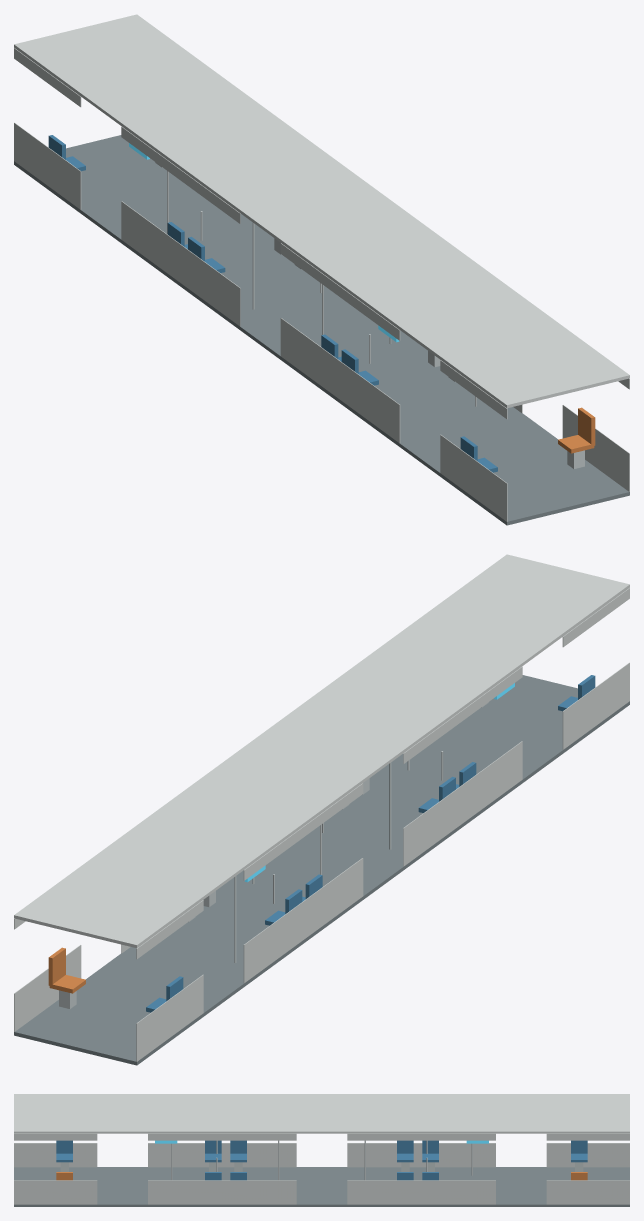
The model's file is expo-metro-shared-interior.lod0.glb.
The picture shows the model from 3 angles, top to bottom: view 1: azimuth 30°, elevation 25°; view 2: azimuth 150°, elevation 25°; view 3: azimuth 270°, elevation 25°; orthographic projection. The views are drawn at different scales.
Visible parts, largest first — view 1: interior-batch-metro-wall, interior-batch-metro-floor, interior-batch-metro-seat, interior-batch-metro-rail, interior-batch-metro-priority-seat; view 2: interior-batch-metro-wall, interior-batch-metro-floor, interior-batch-metro-seat, interior-batch-metro-rail, interior-batch-metro-priority-seat; view 3: interior-batch-metro-wall, interior-batch-metro-floor, interior-batch-metro-seat, interior-batch-metro-rail, interior-batch-metro-priority-seat, interior-batch-metro-screen.
Part boxes in pixels (left/top/right/bottom): interior-batch-metro-wall: left=14, top=14, right=629, bottom=521; interior-batch-metro-floor: left=14, top=135, right=629, bottom=525; interior-batch-metro-seat: left=48, top=135, right=497, bottom=472; interior-batch-metro-rail: left=155, top=162, right=584, bottom=468; interior-batch-metro-priority-seat: left=558, top=407, right=595, bottom=453; interior-batch-metro-wall: left=14, top=554, right=629, bottom=1061; interior-batch-metro-floor: left=14, top=675, right=629, bottom=1065; interior-batch-metro-seat: left=146, top=675, right=595, bottom=1012; interior-batch-metro-rail: left=59, top=702, right=488, bottom=1008; interior-batch-metro-priority-seat: left=48, top=947, right=85, bottom=993; interior-batch-metro-wall: left=14, top=1094, right=629, bottom=1204; interior-batch-metro-floor: left=14, top=1167, right=629, bottom=1206; interior-batch-metro-seat: left=56, top=1140, right=587, bottom=1180; interior-batch-metro-rail: left=60, top=1140, right=583, bottom=1180; interior-batch-metro-priority-seat: left=56, top=1172, right=587, bottom=1180; interior-batch-metro-screen: left=155, top=1140, right=488, bottom=1143.
Size of the model in its own units: 2.45 by 2.29 by 17.
